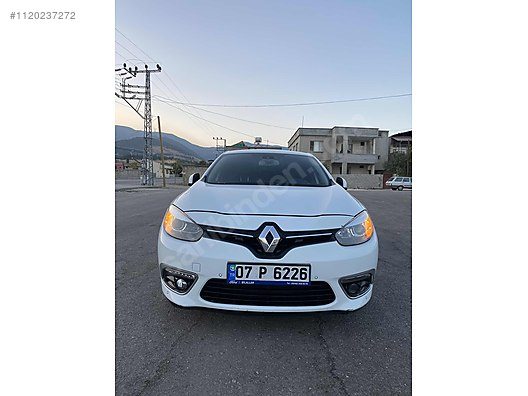plate: (227, 265, 314, 285)
